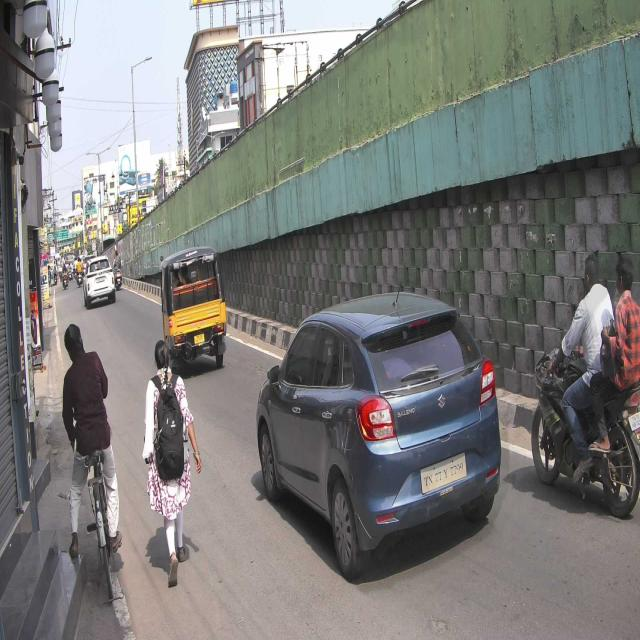double_rider: (530, 249, 640, 517)
